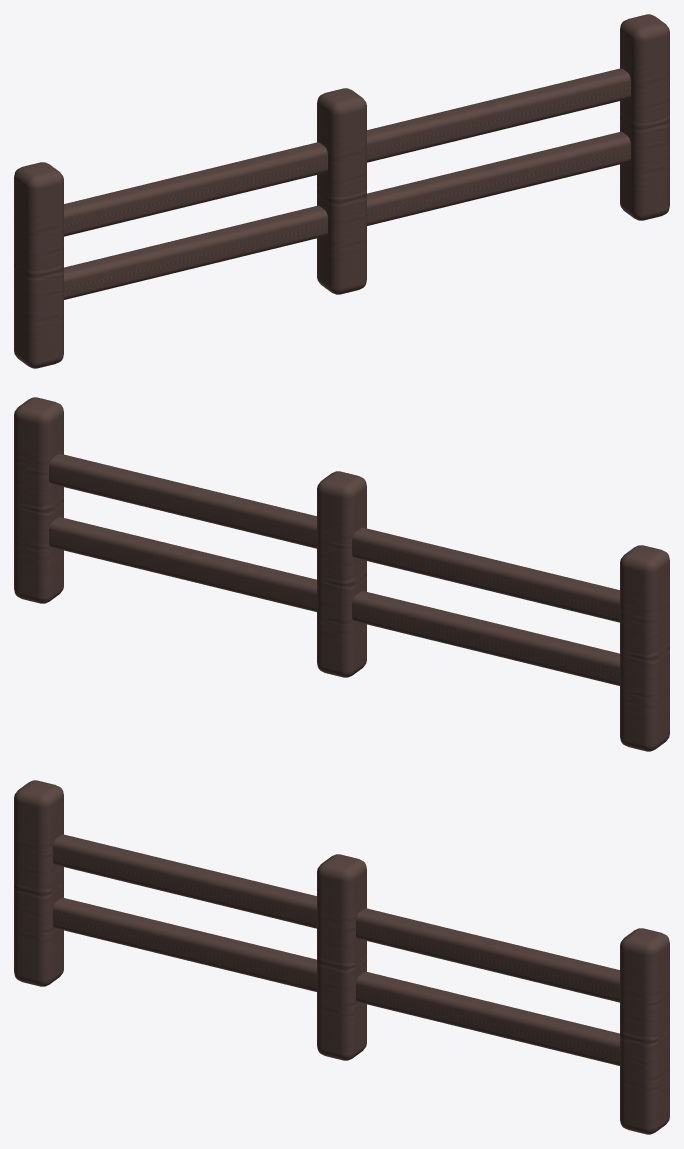
3 renders of one model, top to bottom at view 1: azimuth 30°, elevation 25°; view 2: azimuth 150°, elevation 25°; view 3: azimuth 330°, elevation 25°, orthographic.
Parts seen in each view (by area): view 1: Fence; view 2: Fence; view 3: Fence.
Part boxes in pixels (x1=…): Fence: x1=14, y1=14, x2=669, y2=368; Fence: x1=14, y1=397, x2=669, y2=751; Fence: x1=14, y1=780, x2=669, y2=1134.
Bounding box in the file's own units: 5.94 × 1.7 × 0.34.
1 material, 1 textured.
